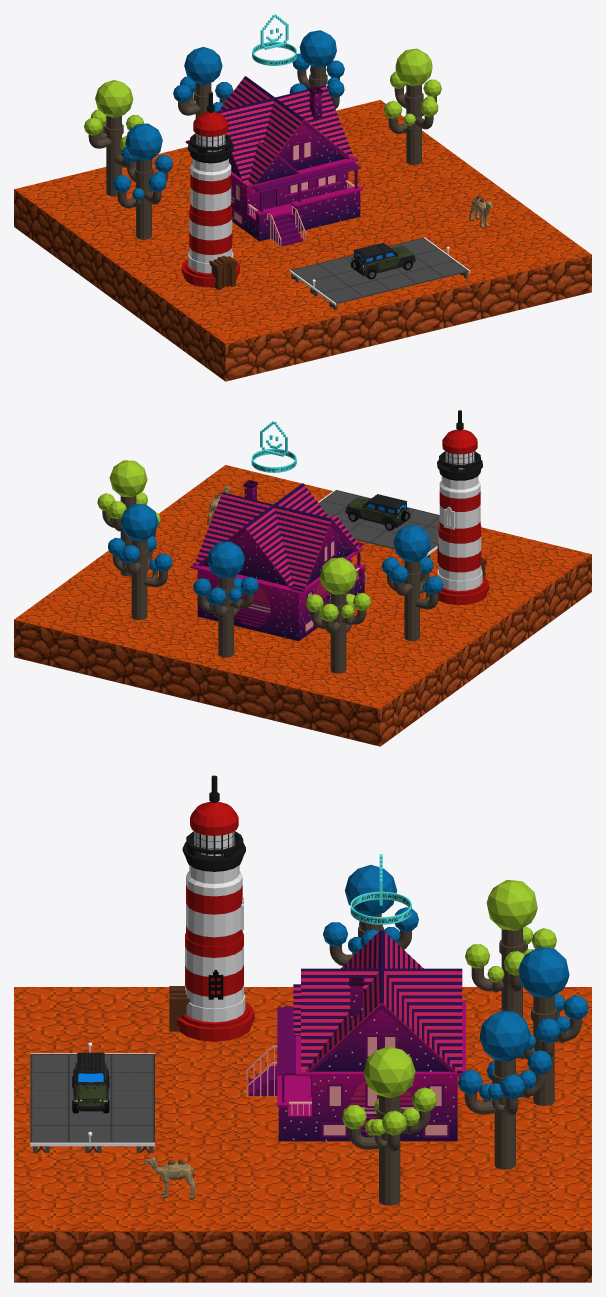
3 views of the same model, one above another, from view 1: azimuth 30°, elevation 25°; view 2: azimuth 150°, elevation 25°; view 3: azimuth 270°, elevation 25° (orthographic). The views are drawn at different scales.
Parts seen in each view (by area): view 1: Cube.001, Cube.156, OBJRANDOM_LIGHTHOUSE, VEHICLES_JEEP, TYPE_PREMIUM; view 2: Cube.001, Cube.156, OBJRANDOM_LIGHTHOUSE, VEHICLES_JEEP, TYPE_PREMIUM; view 3: Cube.001, Cube.156, OBJRANDOM_LIGHTHOUSE, VEHICLES_JEEP, TYPE_PREMIUM, ANIMAL_CAMELLO.
Boxes of the visible parts, left/top/right/bottom form: Cube.001: left=14, top=30, right=591, bottom=381; Cube.156: left=185, top=76, right=362, bottom=247; OBJRANDOM_LIGHTHOUSE: left=181, top=92, right=239, bottom=290; VEHICLES_JEEP: left=350, top=242, right=415, bottom=279; TYPE_PREMIUM: left=252, top=14, right=296, bottom=65; Cube.001: left=14, top=460, right=591, bottom=746; Cube.156: left=190, top=480, right=366, bottom=641; OBJRANDOM_LIGHTHOUSE: left=437, top=410, right=489, bottom=604; VEHICLES_JEEP: left=345, top=494, right=410, bottom=530; TYPE_PREMIUM: left=251, top=421, right=296, bottom=472; Cube.001: left=14, top=865, right=591, bottom=1282; Cube.156: left=246, top=930, right=465, bottom=1141; OBJRANDOM_LIGHTHOUSE: left=169, top=775, right=254, bottom=1041; VEHICLES_JEEP: left=72, top=1052, right=109, bottom=1113; TYPE_PREMIUM: left=350, top=854, right=411, bottom=924; ANIMAL_CAMELLO: left=144, top=1156, right=195, bottom=1199.
Bounding box in the file's own units: 4000 × 2410 × 4000.
Materials: 43 (7 with a texture image).
